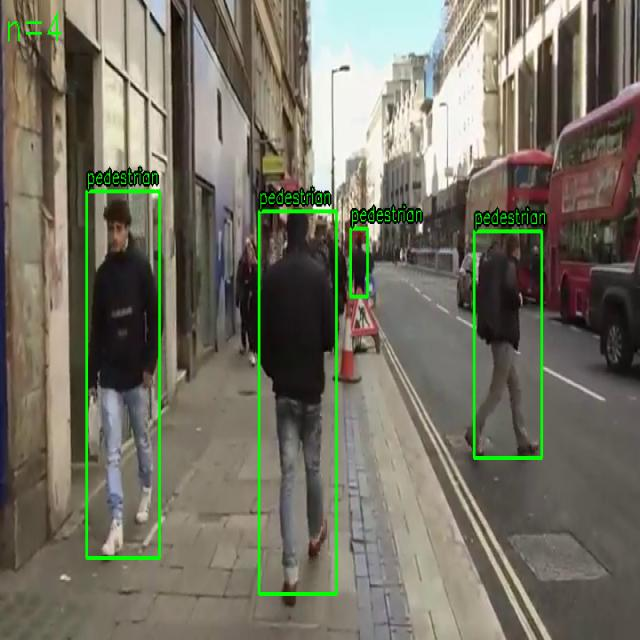with scooter: (259, 210, 337, 594), (86, 191, 160, 558), (474, 231, 542, 458), (350, 228, 368, 297)
